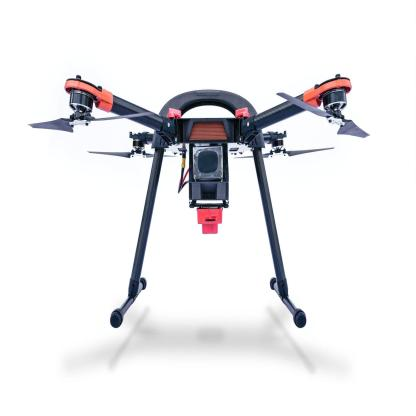drone: (34, 59, 373, 203)
